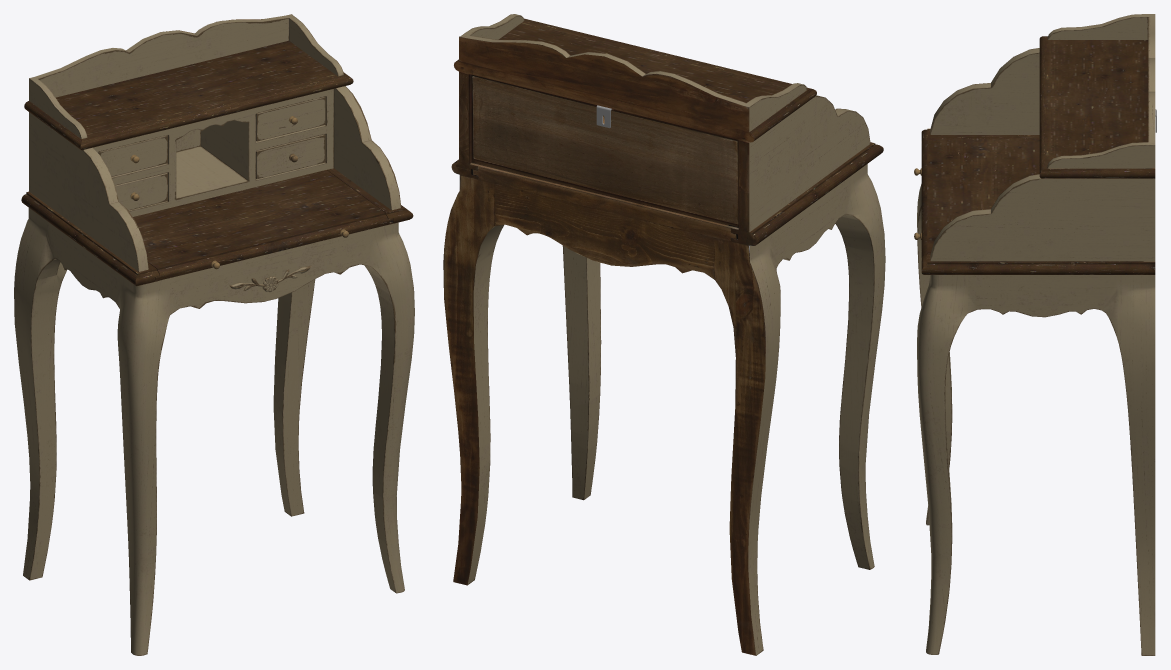
File: example123.gltf
3 renders of one model, left to right at view 1: azimuth 30°, elevation 25°; view 2: azimuth 150°, elevation 25°; view 3: azimuth 270°, elevation 25°, orthographic. The views are drawn at different scales.
Bounding box in the file's own units: 60.03 × 99.99 × 42.13.
4 materials, 3 textured.
